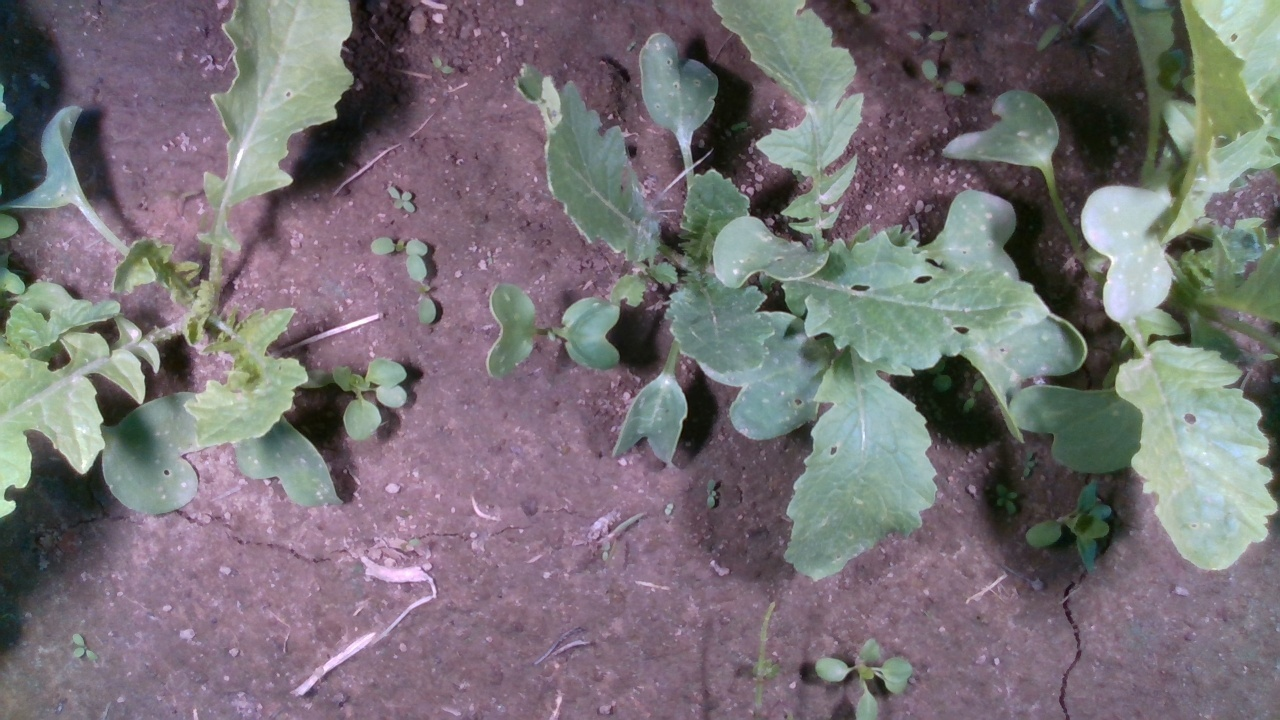weed: (378, 183, 421, 213), (705, 476, 718, 510), (661, 499, 675, 519)
